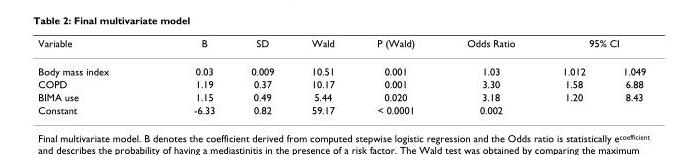table: (37, 36, 645, 115)
table column: (37, 36, 150, 115), (440, 36, 538, 115), (355, 36, 440, 115), (150, 36, 232, 115), (538, 36, 603, 115), (292, 36, 355, 115), (232, 36, 292, 115), (603, 36, 645, 115)
table column header: (37, 36, 645, 77)
table row: (37, 56, 645, 77), (37, 36, 645, 56), (37, 77, 645, 90), (37, 90, 645, 103), (37, 103, 645, 115)
table spanning cell: (37, 36, 150, 77), (440, 36, 538, 77), (355, 36, 440, 77), (150, 36, 232, 77), (292, 36, 355, 77), (232, 36, 292, 77), (538, 36, 645, 56)
